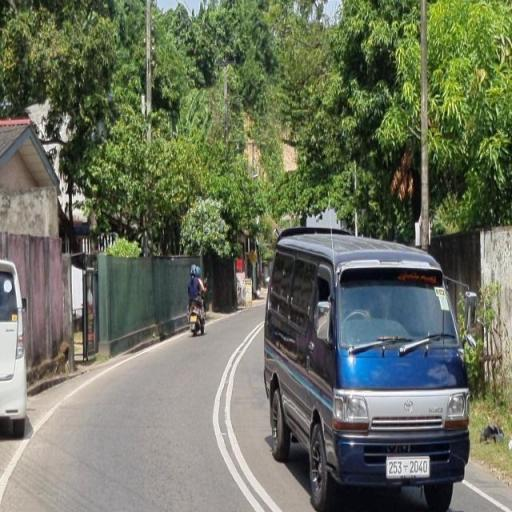double_white_line: (213, 317, 277, 510), (462, 479, 510, 512)
